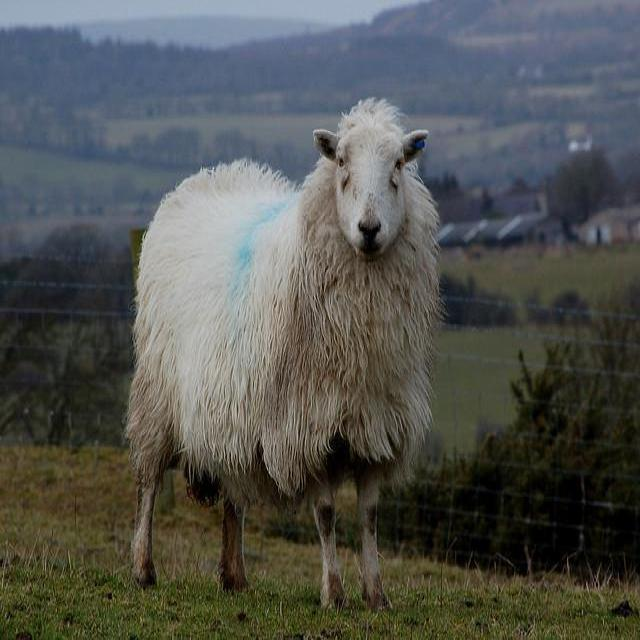Sheep: (121, 97, 443, 612)
